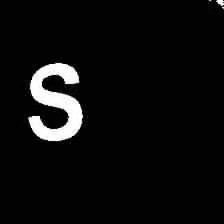LTR_S: (21, 54, 90, 146)
